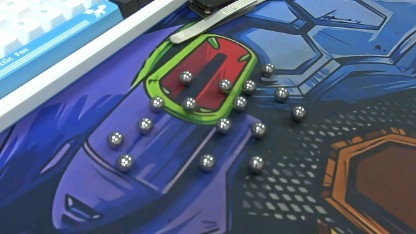ironball: (101, 125, 126, 149), (177, 92, 199, 115), (197, 150, 218, 172), (246, 149, 264, 173), (248, 116, 266, 138), (145, 92, 163, 114), (134, 114, 153, 134), (212, 114, 232, 133), (215, 73, 232, 94), (239, 74, 255, 95), (228, 91, 246, 109), (271, 84, 287, 104), (116, 153, 135, 169), (259, 58, 274, 78), (290, 104, 306, 121), (177, 68, 192, 84)
